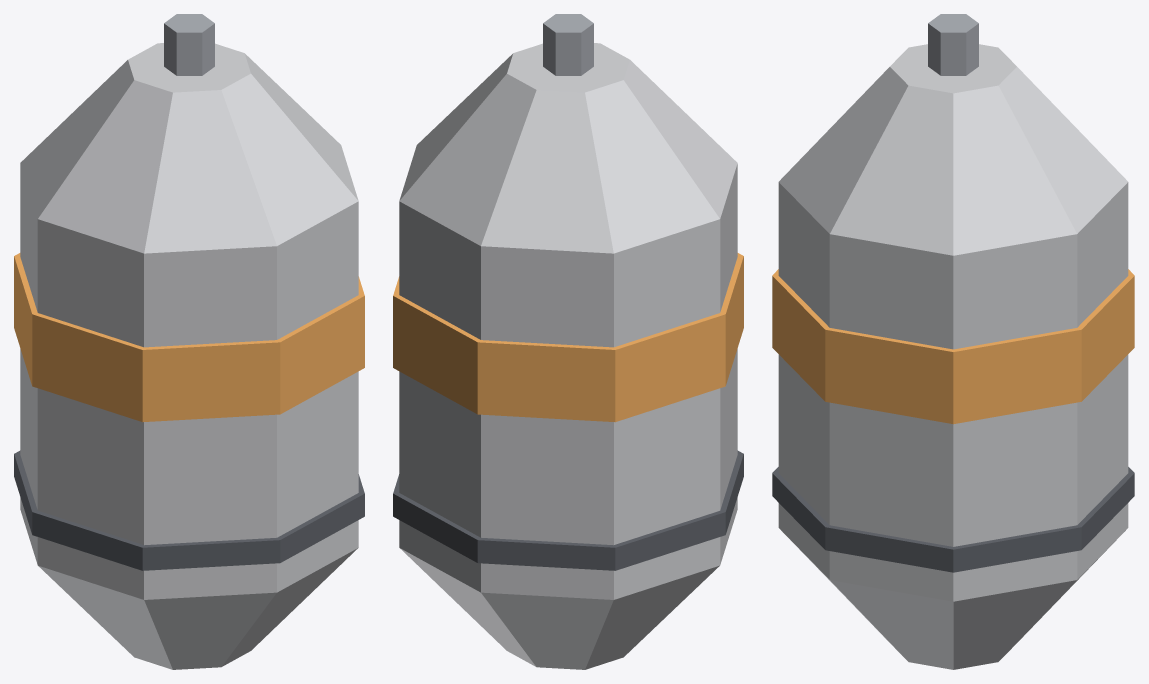
The model's file is tank.glb.
3 renders of one model, left to right at view 1: azimuth 30°, elevation 25°; view 2: azimuth 150°, elevation 25°; view 3: azimuth 270°, elevation 25°, orthographic.
Parts seen in each view (by area): view 1: tank; view 2: tank; view 3: tank.
Part boxes in pixels (x1,y1,x2,y2): tank: (14, 14, 364, 669); tank: (393, 14, 743, 669); tank: (772, 14, 1134, 669).
Bounding box in the file's own units: 1.14 × 2.15 × 1.14.
